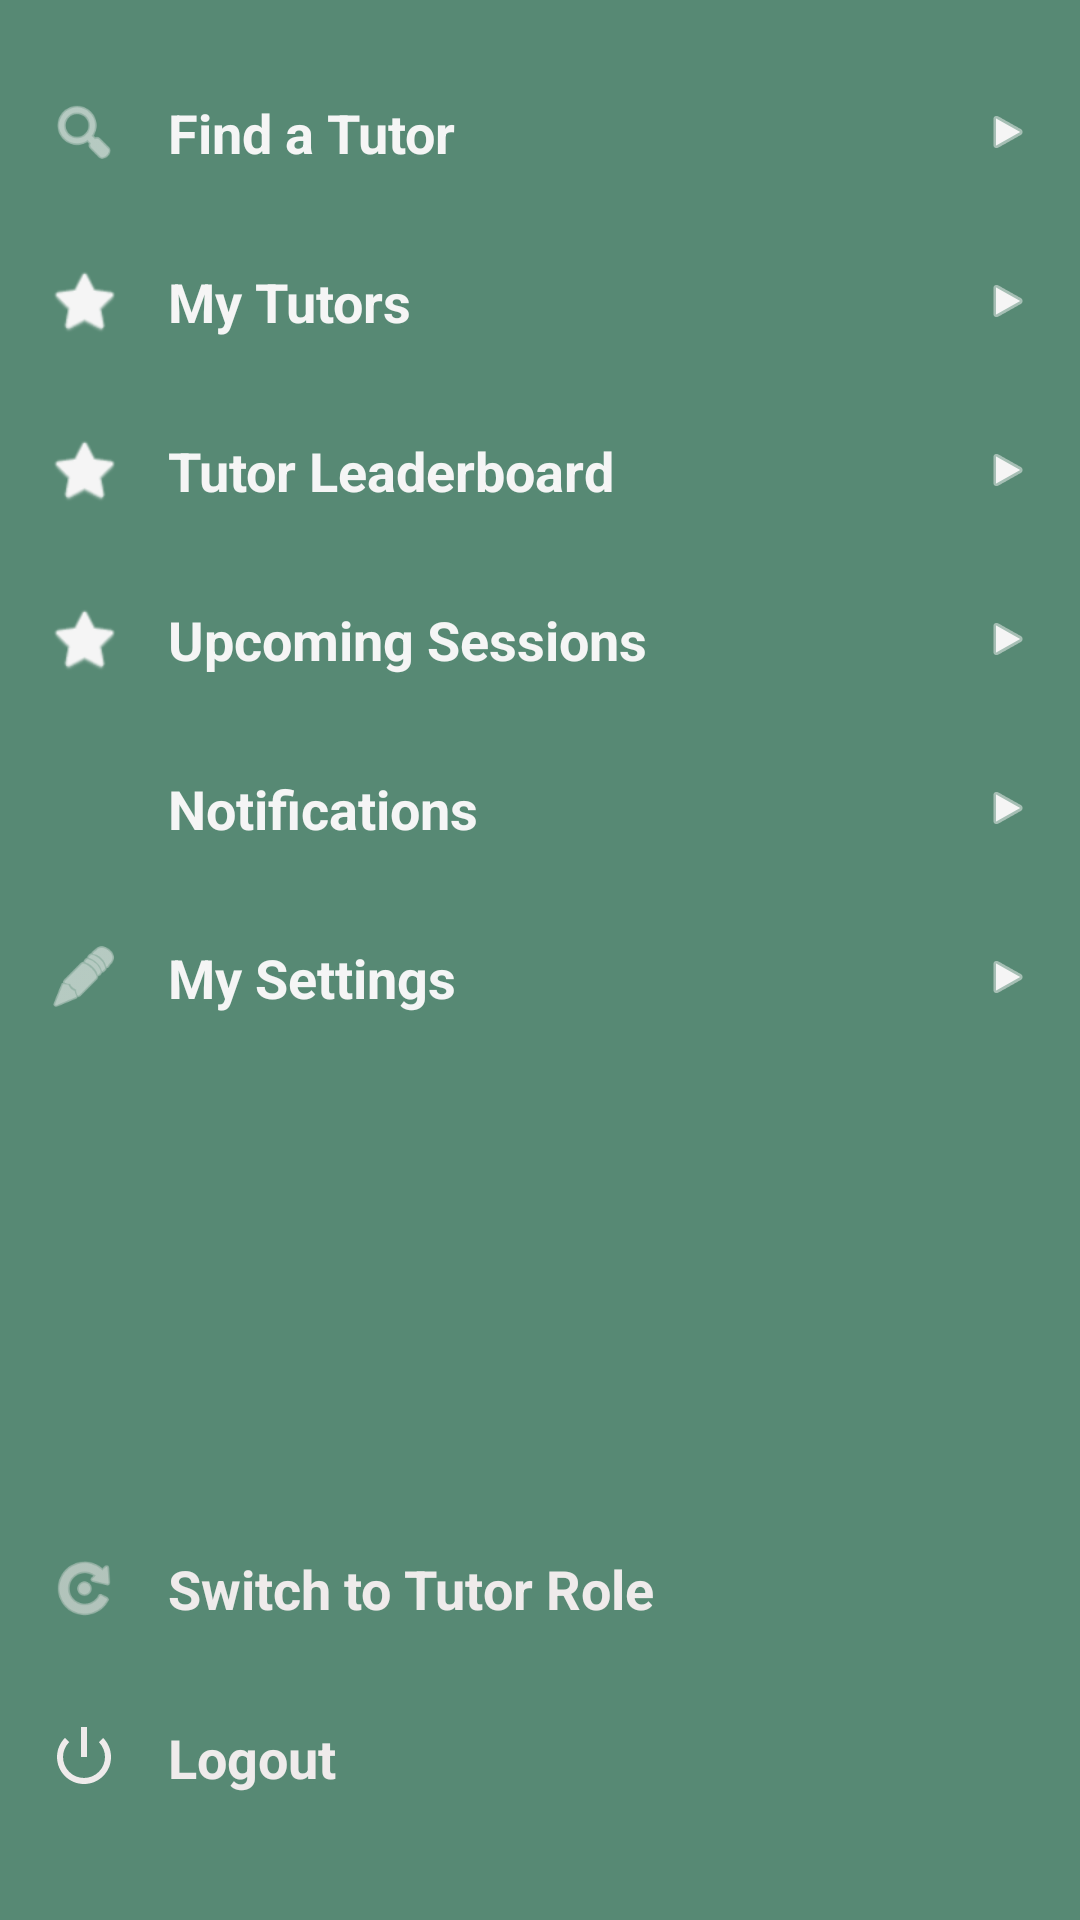

Where to tap for icons on this 1080px x 1920px app screen, as (x,y):
edit: (83,976)
lock power off: (84,1755)
play: (1008,132), (1008,301), (1008,470), (1008,639), (1008,808), (1008,977)
rotate: (84,1588)
search: (83,132)
star on: (85,301), (85,470), (85,639)
